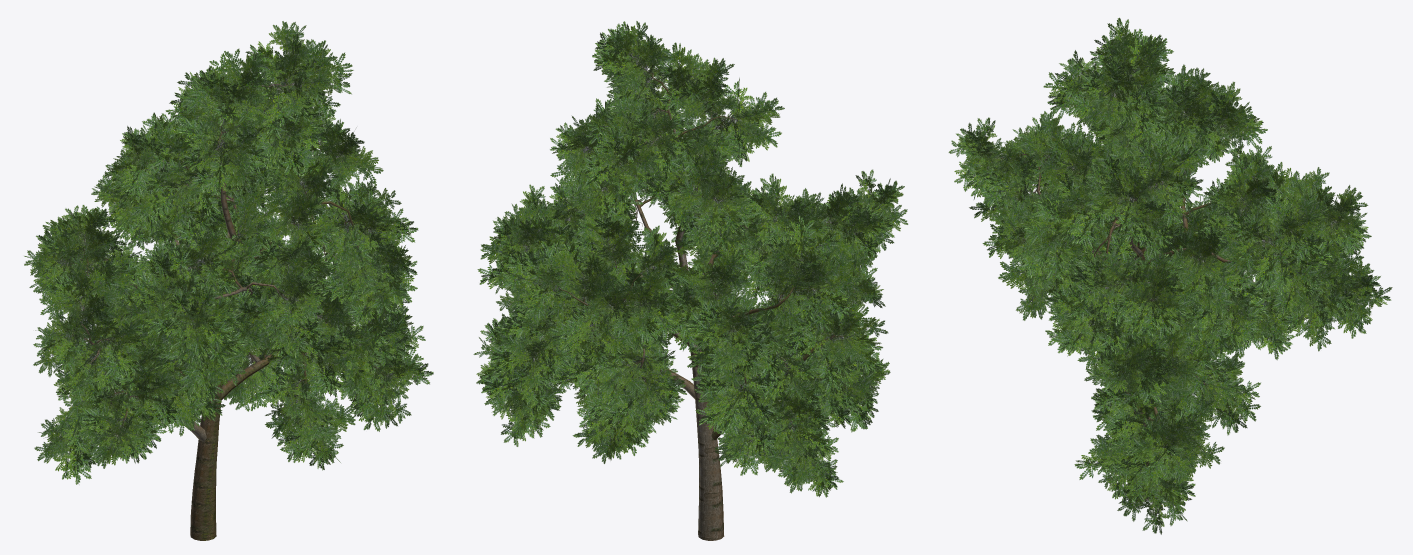
The model's file is tree3.glb.
The picture shows the model from 3 angles, left to right: view 1: azimuth 30°, elevation 25°; view 2: azimuth 150°, elevation 25°; view 3: azimuth 270°, elevation 25°; orthographic projection.
Visible parts, largest first — view 1: Tree EZTree1.Large001; view 2: Tree EZTree1.Large001; view 3: Tree EZTree1.Large001.
Part boxes in pixels (left/top/right/bottom): Tree EZTree1.Large001: left=24, top=21, right=433, bottom=540; Tree EZTree1.Large001: left=473, top=21, right=908, bottom=540; Tree EZTree1.Large001: left=948, top=17, right=1392, bottom=534.
Bounding box in the file's own units: 71.57 × 82.16 × 67.56.
Materials: 2 (2 with a texture image).
